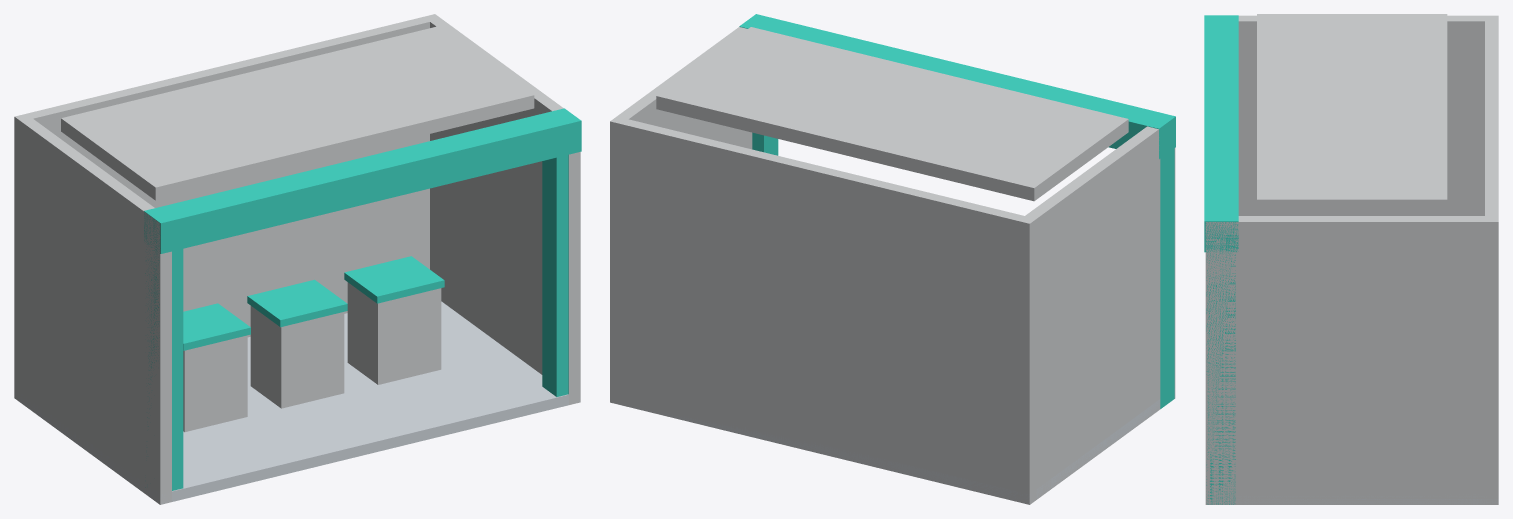
The picture shows the model from 3 angles, left to right: view 1: azimuth 30°, elevation 25°; view 2: azimuth 150°, elevation 25°; view 3: azimuth 270°, elevation 25°; orthographic projection.
Parts seen in each view (by area): view 1: Exhibition Booth Concept; view 2: Exhibition Booth Concept; view 3: Exhibition Booth Concept.
Boxes of the visible parts, box(x1,y1,x2,y2) form: Exhibition Booth Concept: box(14, 14, 581, 504); Exhibition Booth Concept: box(610, 14, 1175, 504); Exhibition Booth Concept: box(1204, 14, 1498, 504).
Size of the model in its own units: 5 by 3.34 by 3.01.
